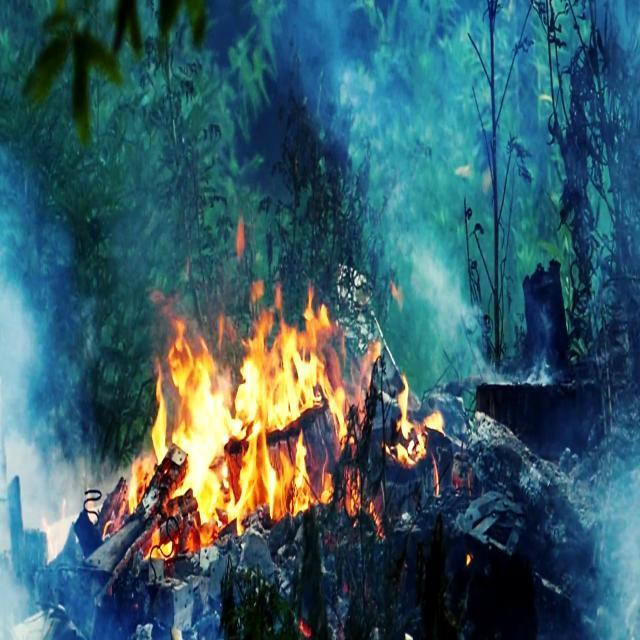Fire: (116, 260, 362, 582), (336, 326, 443, 524)
Smoke: (330, 0, 520, 404), (0, 135, 105, 628)
